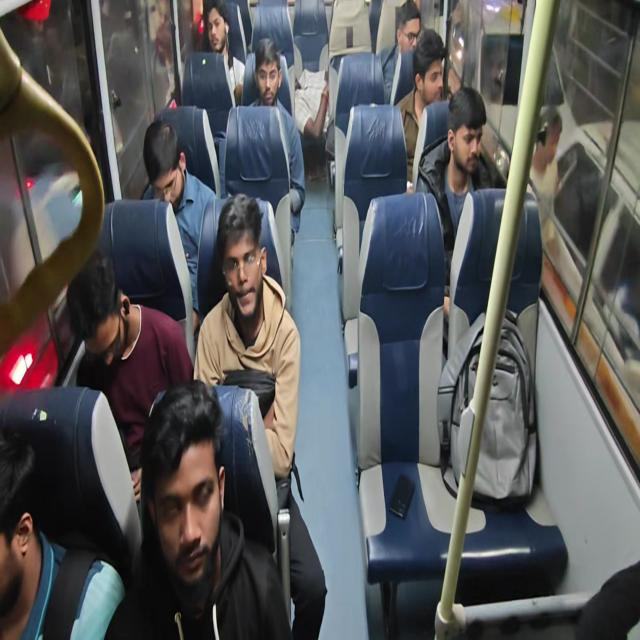person: (126, 386, 229, 611), (451, 97, 531, 247), (0, 440, 52, 618), (221, 208, 281, 351), (69, 262, 116, 355), (151, 120, 185, 209), (372, 9, 422, 66), (248, 41, 288, 106), (402, 41, 446, 96), (301, 62, 327, 134), (205, 1, 234, 56)
